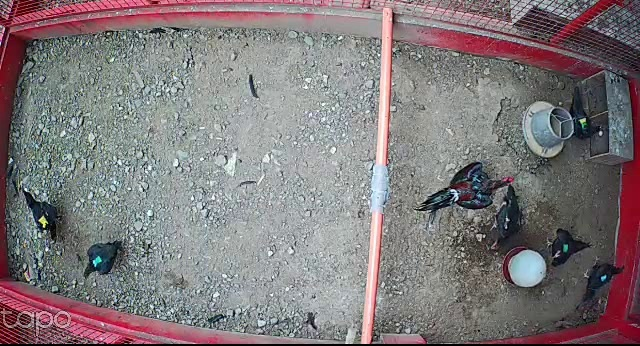Chicken: (570, 253, 629, 316), (486, 183, 527, 264), (561, 83, 605, 144), (20, 186, 66, 243), (540, 224, 593, 267), (82, 235, 126, 281)
Drinker: (501, 245, 547, 288)
Feeder: (521, 99, 576, 158)
Rooster: (415, 154, 519, 220)
Saddle_Color_Blue: (601, 276, 607, 282)
Saddle_Color_Yellow: (38, 211, 51, 229)
Saddle_Color_YellowGreen: (578, 116, 591, 131)
